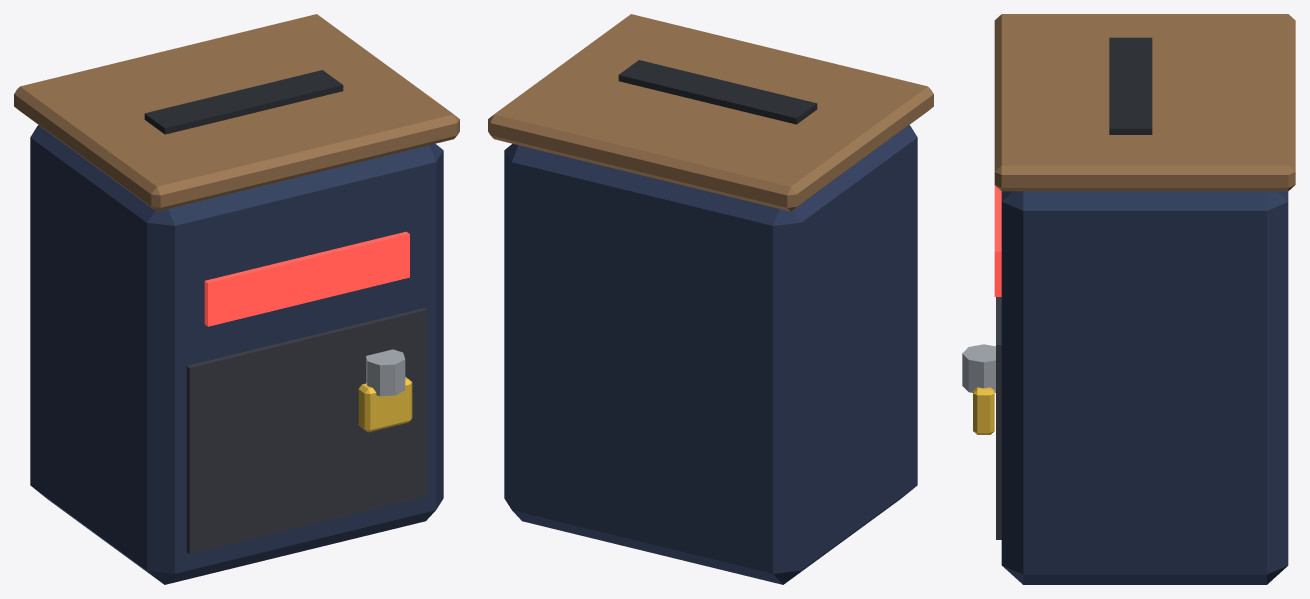
Rendered from shredder_p2_3.glb.
3 views of the same model, side by side, from view 1: azimuth 30°, elevation 25°; view 2: azimuth 150°, elevation 25°; view 3: azimuth 270°, elevation 25° (orthographic). The views are drawn at different scales.
Parts seen in each view (by area): view 1: shredder_p2_3_mesh; view 2: shredder_p2_3_mesh; view 3: shredder_p2_3_mesh.
Boxes of the visible parts, bbox=[...] form: shredder_p2_3_mesh: bbox=[14, 14, 459, 584]; shredder_p2_3_mesh: bbox=[488, 14, 933, 584]; shredder_p2_3_mesh: bbox=[962, 14, 1295, 584].
Bounding box in the file's own units: 0.52 × 0.67 × 0.465.
